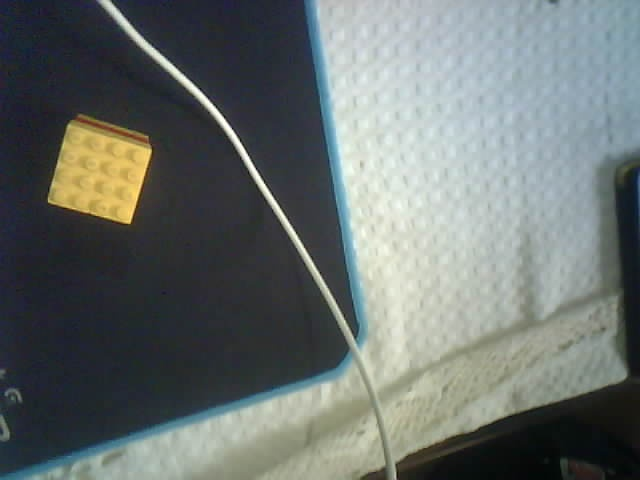lego: (46, 113, 153, 227)
